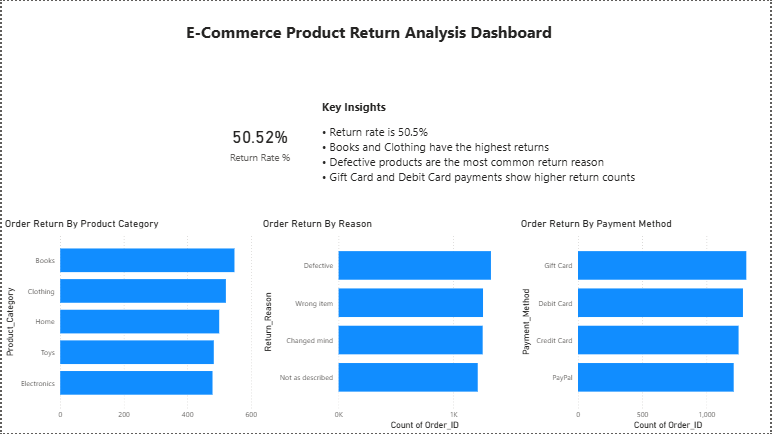

The page's visual inventory and layout, read from the dashboard file:
{"tool":"powerbi","page":{"name":"Page 1","canvas":[1280,720],"ordinal":0},"visuals":[{"type":"card","fields":{"Values":["ecommerce_data.Return Rate %"]},"box":[366,176,126,118],"z":0},{"type":"clusteredBarChart","title":"Order Return By Product Category","fields":{"Y":["CountNonNull(ecommerce_data.Order_ID)"],"Category":["ecommerce_data.Product_Category"]},"box":[0,360,430,360],"z":1000},{"type":"clusteredBarChart","title":"Order Return By Reason","fields":{"Y":["CountNonNull(ecommerce_data.Order_ID)"],"Category":["ecommerce_data.Return_Reason"]},"box":[430,360,430,360],"z":2000},{"type":"clusteredBarChart","title":"Order Return By Payment Method","fields":{"Category":["ecommerce_data.Payment_Method"],"Y":["CountNonNull(ecommerce_data.Order_ID)"]},"box":[860,360,420,360],"z":3000},{"type":"textbox","box":[528,158,542,202],"z":4000},{"type":"textbox","box":[302,28,686,46],"z":4001}]}

Visuals, with their boxes in screenshot pixels (x1, y1, x2, y2), scaled from the page's 1280x720 canvas onto the 772x434 screenshot:
card - ecommerce_data.Return Rate %: <box>221,106,297,177</box>
"Order Return By Product Category" clusteredBarChart: <box>0,217,259,433</box>
"Order Return By Reason" clusteredBarChart: <box>259,217,519,433</box>
"Order Return By Payment Method" clusteredBarChart: <box>519,217,771,433</box>
textbox: <box>318,95,645,217</box>
textbox: <box>182,17,596,45</box>
